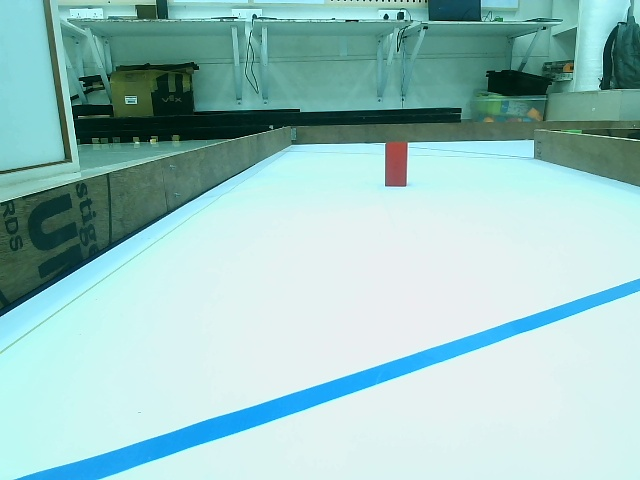red: (383, 142, 409, 186)
